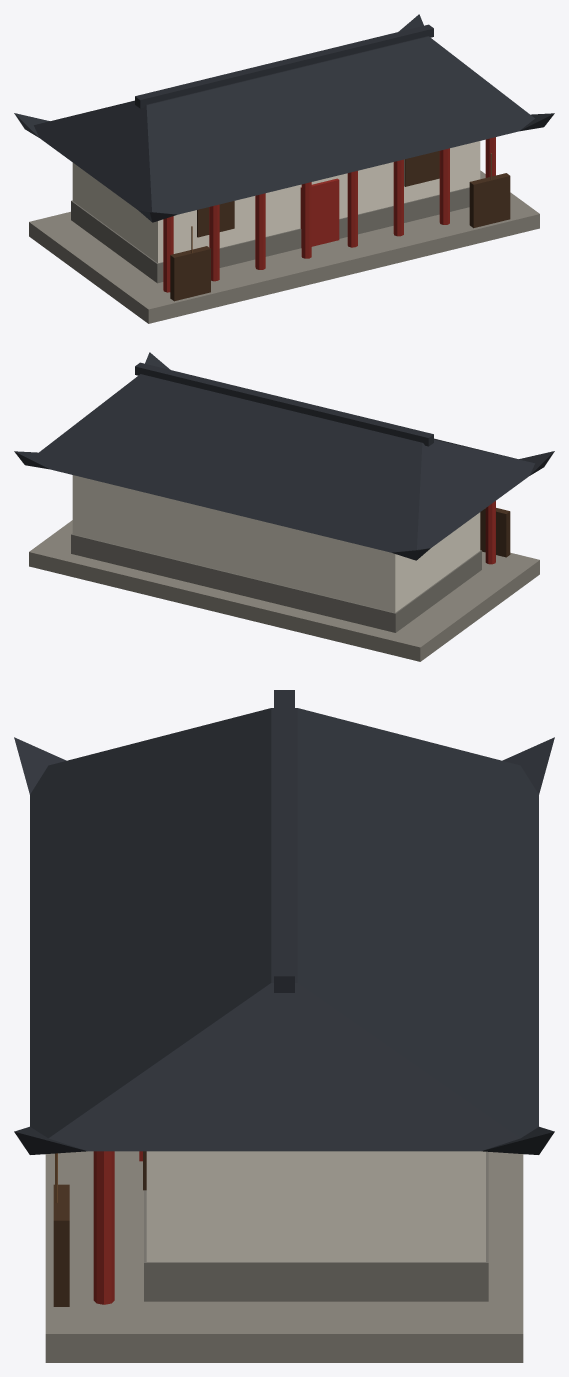
Rendered from barracks.glb.
3 views of the same model, one above another, from view 1: azimuth 30°, elevation 25°; view 2: azimuth 150°, elevation 25°; view 3: azimuth 270°, elevation 25° (orthographic). The views are drawn at different scales.
Visible parts, largest first — view 1: Barracks; view 2: Barracks; view 3: Barracks.
Part boxes in pixels (<box>): Barracks: <box>14,14,554,323</box>; Barracks: <box>14,352,554,661</box>; Barracks: <box>14,690,554,1362</box>.
Size of the model in its own units: 17.6 by 7.06 by 10.2.
